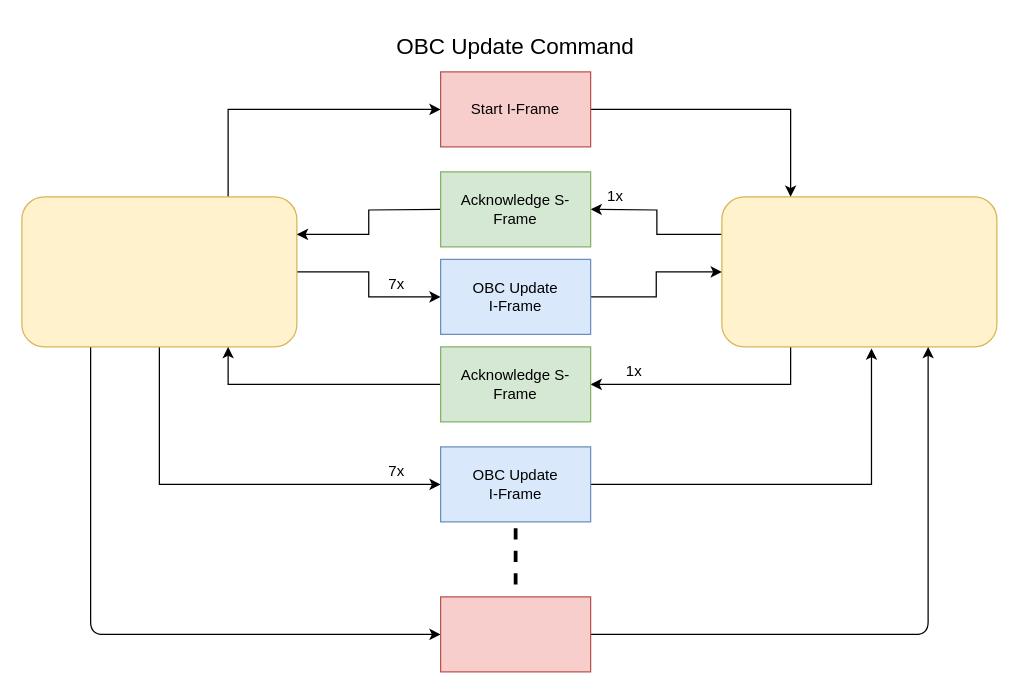
Image size: 1019x694. Some labels were removed from this diagram. Each missing label, with the centre of its shape:
"End Command Transmission S-Frame" goes at (x=515, y=634).
"Primary Station Western / Other Ground Station" goes at (x=159, y=271).
"Secondary Station Ukpik-1" goes at (x=859, y=271).
